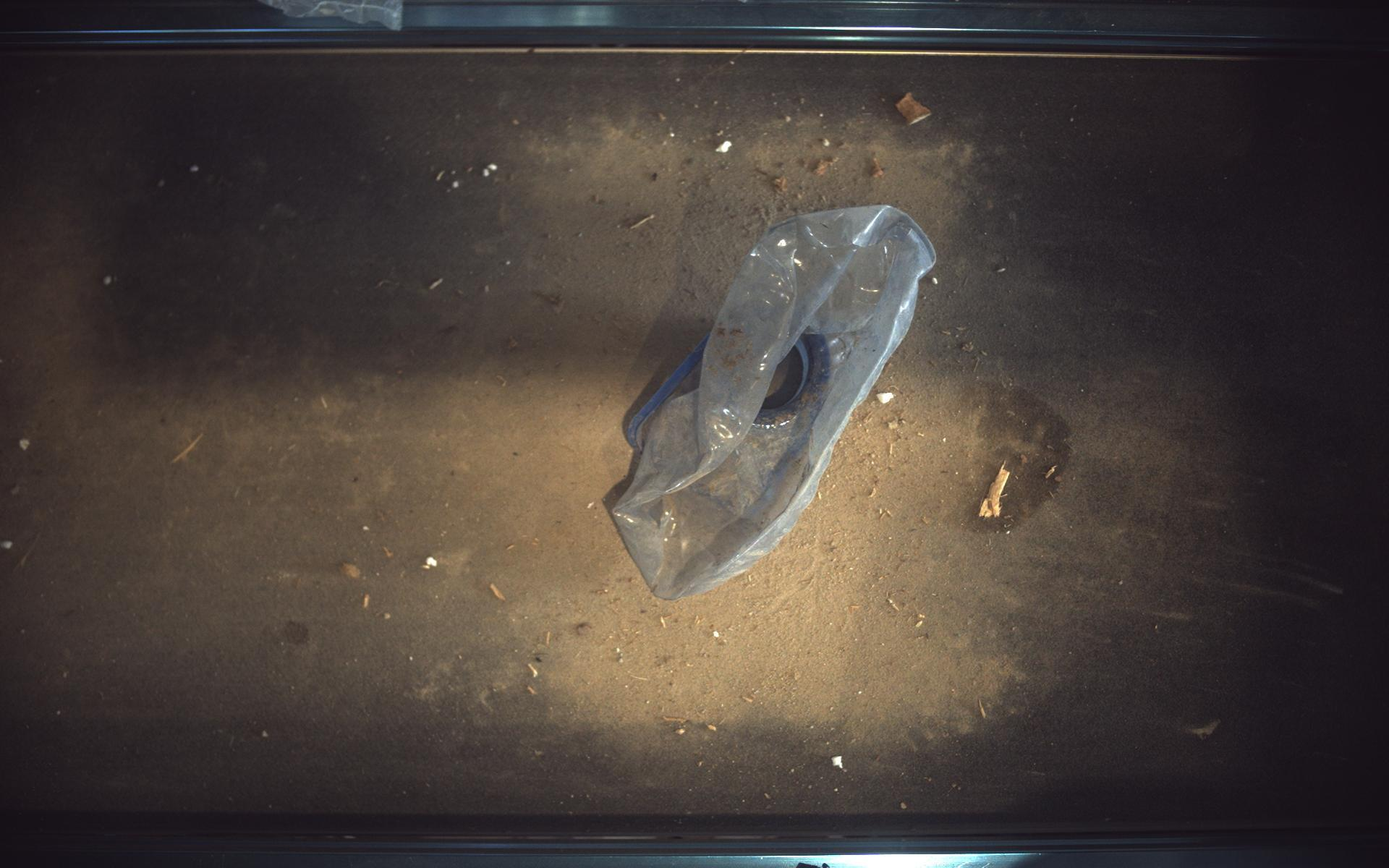general_w: (613, 205, 937, 600)
